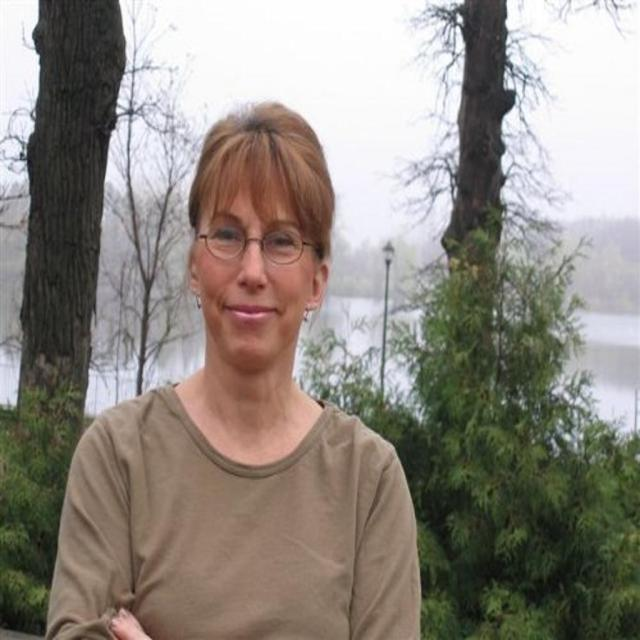Face: (171, 149, 333, 402)
